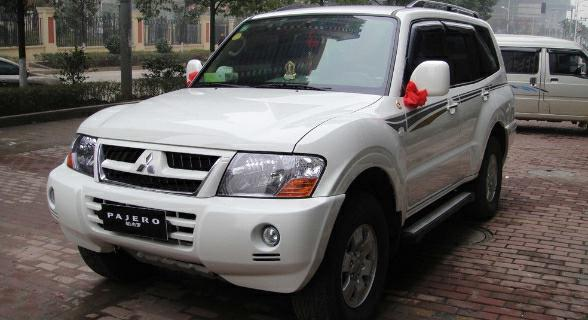三菱-帕杰罗: (36, 2, 530, 314)
